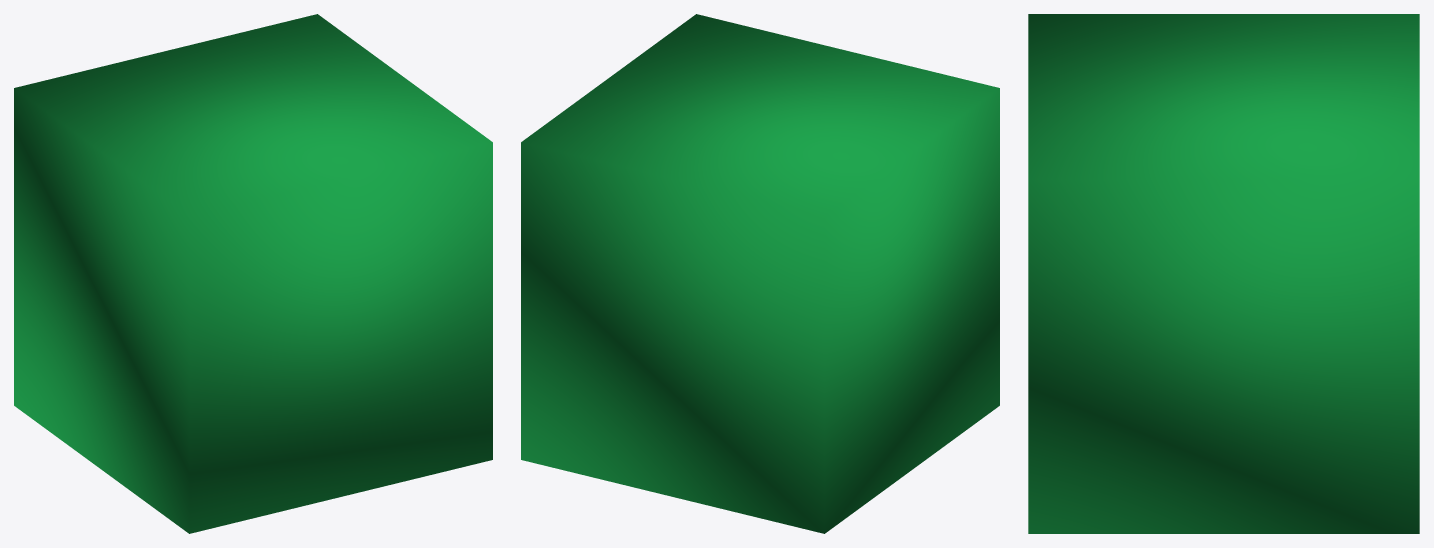
The model's file is ps2_jrpg_corrupted_ruin_altar_fragment.obj.
3 views of the same model, side by side, from view 1: azimuth 30°, elevation 25°; view 2: azimuth 150°, elevation 25°; view 3: azimuth 270°, elevation 25° (orthographic). The views are drawn at different scales.
Bounding box in the file's own units: 1 × 1 × 1.
